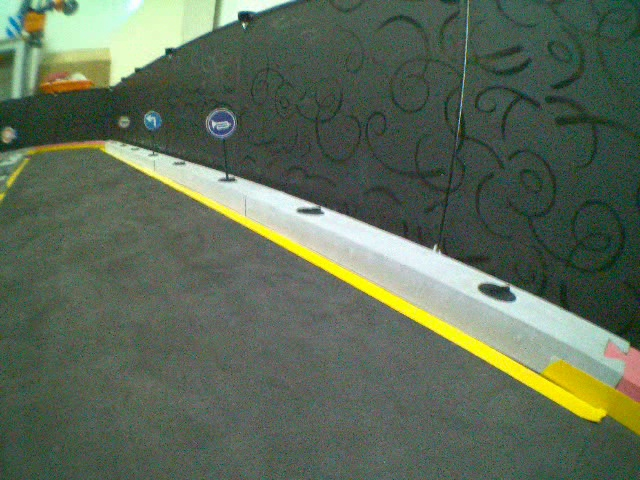horn: (206, 107, 237, 139)
turn: (142, 109, 162, 132)
